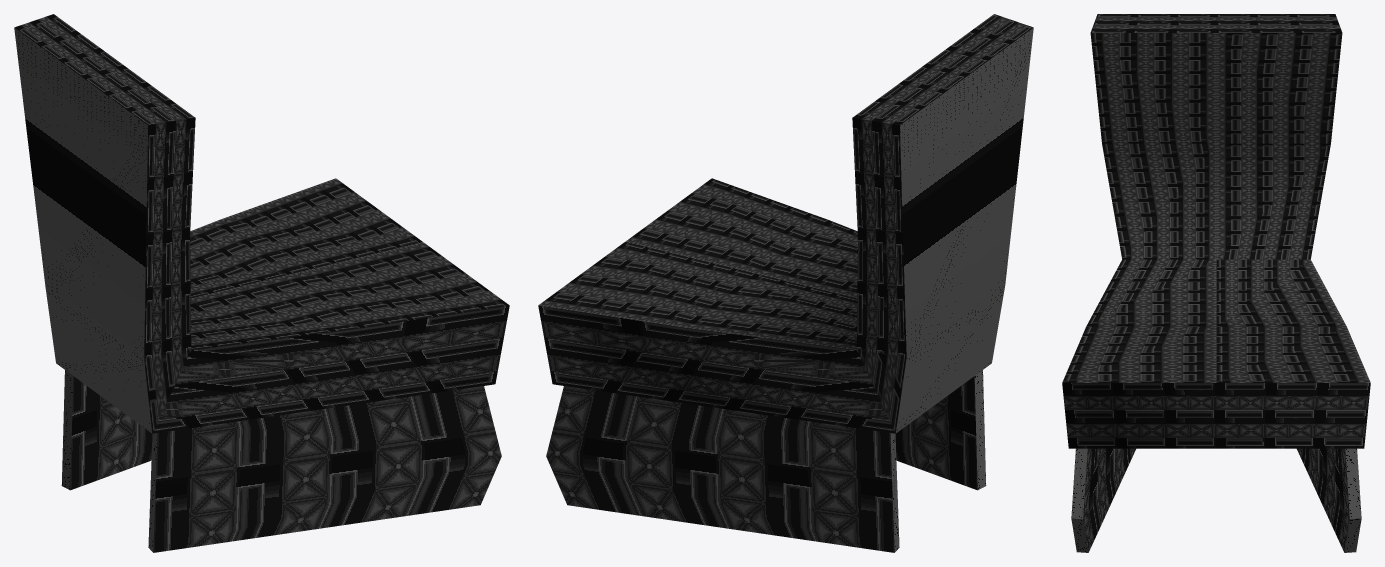
The model's file is 3571kg_12_isu.gltf.
3 views of the same model, side by side, from view 1: azimuth 30°, elevation 25°; view 2: azimuth 150°, elevation 25°; view 3: azimuth 270°, elevation 25° (orthographic). The views are drawn at different scales.
Parts seen in each view (by area): view 1: 3571kg_12_isu; view 2: 3571kg_12_isu; view 3: 3571kg_12_isu.
Part boxes in pixels (box(x1,y1,x2,y2)): 3571kg_12_isu: box(14, 14, 509, 552); 3571kg_12_isu: box(538, 14, 1033, 552); 3571kg_12_isu: box(1062, 14, 1370, 552).
Size of the model in its own units: 0.7839 by 0.9851 by 0.6904.
1 material, 1 textured.
